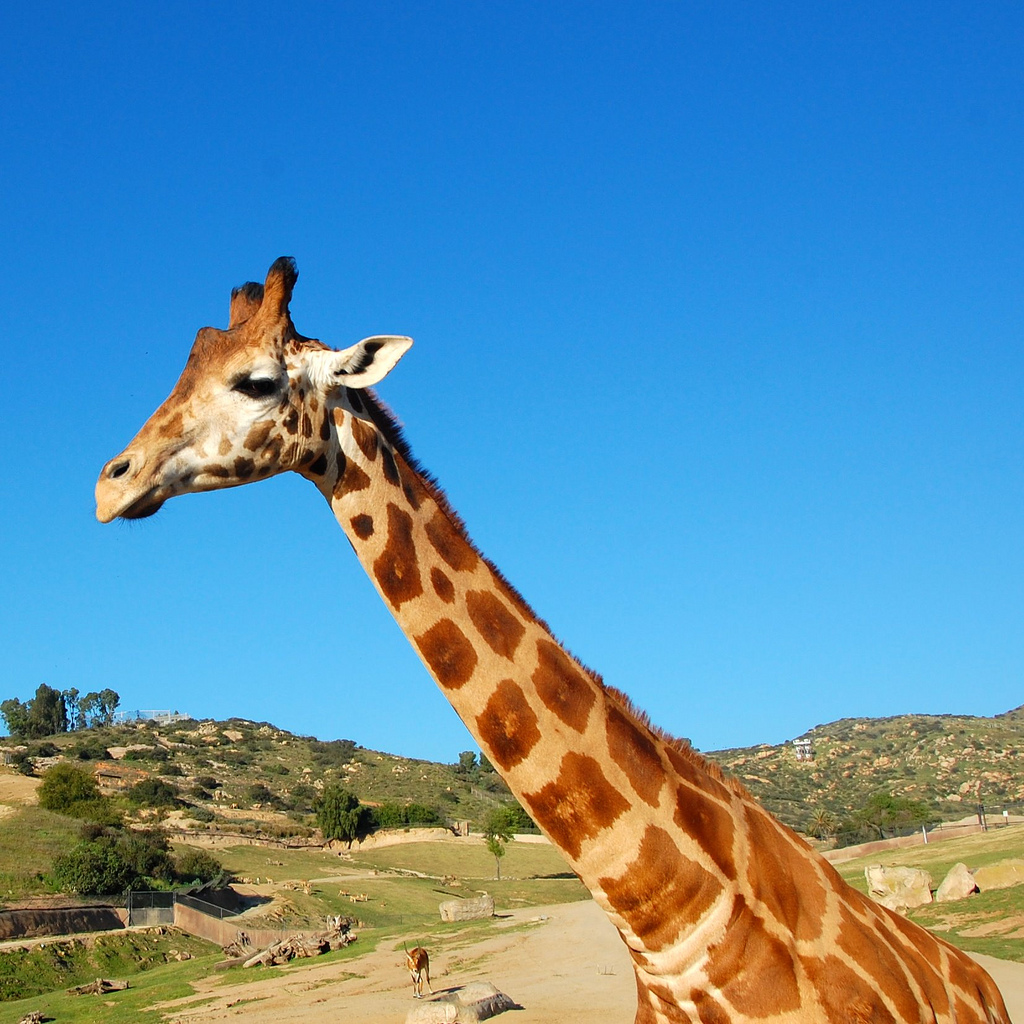giraffe: (79, 272, 925, 1001)
